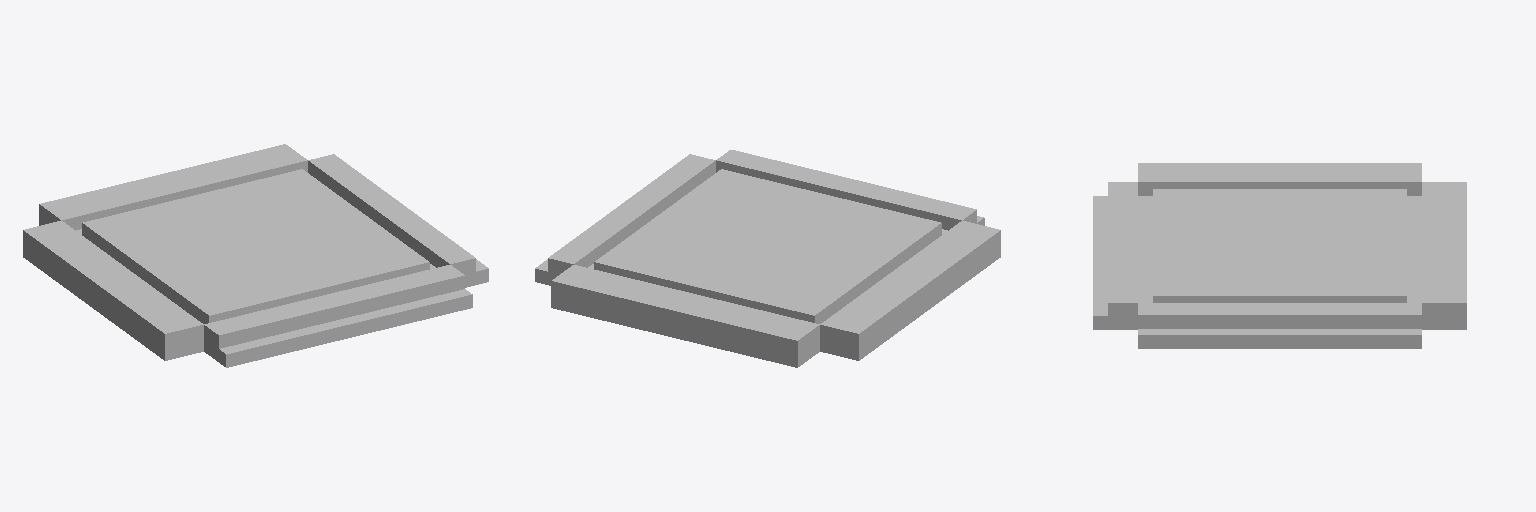
The model's file is Package 01 Necro Dungeon-50.obj.
3 renders of one model, left to right at view 1: azimuth 30°, elevation 25°; view 2: azimuth 150°, elevation 25°; view 3: azimuth 270°, elevation 25°, orthographic.
Visible parts, largest first — view 1: object 1; view 2: object 1; view 3: object 1.
Part boxes in pixels (x1,y1,x2,y2): object 1: (23,144,488,367); object 1: (535,150,1000,367); object 1: (1093,163,1466,348).
Bounding box in the file's own units: 2.5 × 0.2 × 2.5.